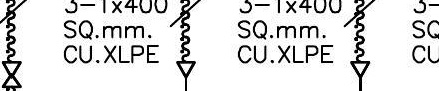terminator_single: (349, 60, 371, 78), (175, 60, 197, 78)
terminator_splicing_kits: (1, 60, 22, 88)
